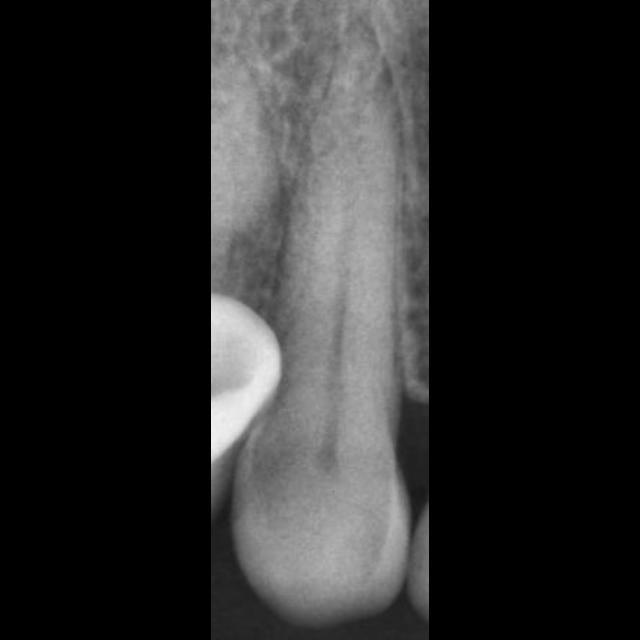tooth: (228, 18, 415, 628)
